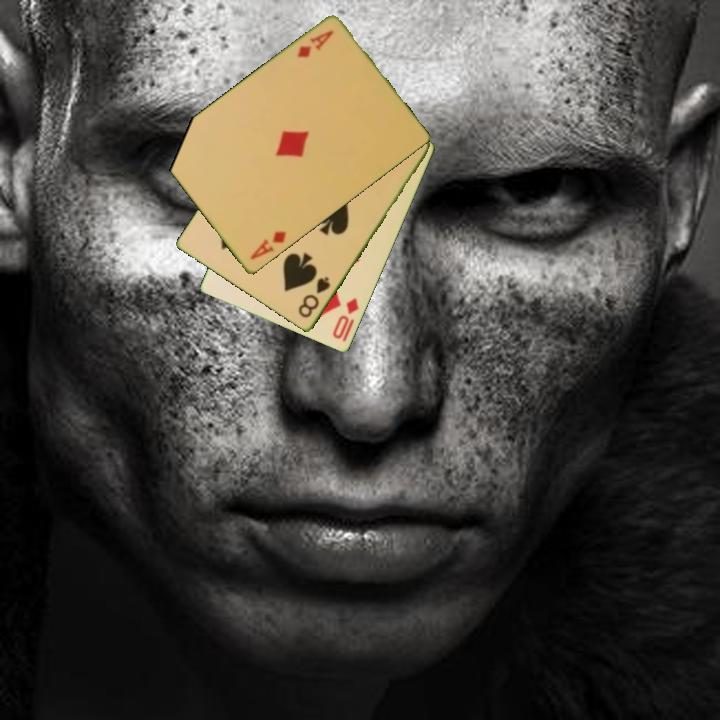10d: (329, 294, 362, 345)
8s: (295, 273, 333, 321)
Ad: (246, 228, 289, 263), (294, 27, 336, 61)
